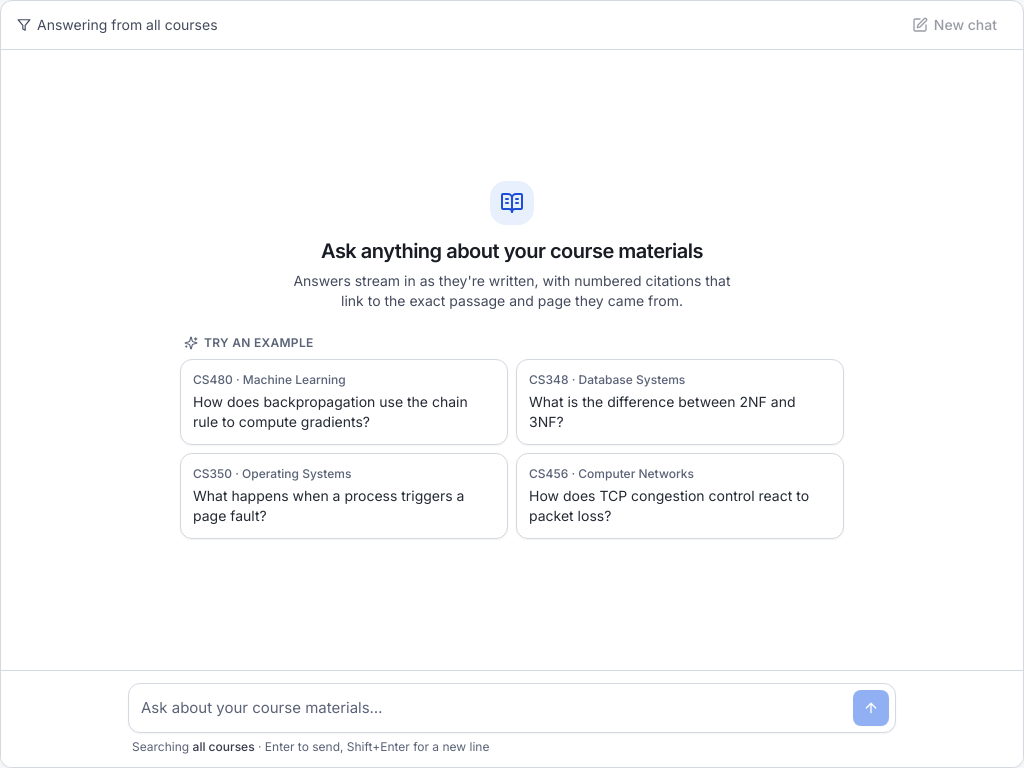
Test: ChatWindow › New chat clears the conversation
Type "Hello" into the text box named "Ask a question" at (493, 708), box [141,690,845,726]
Then press Enter
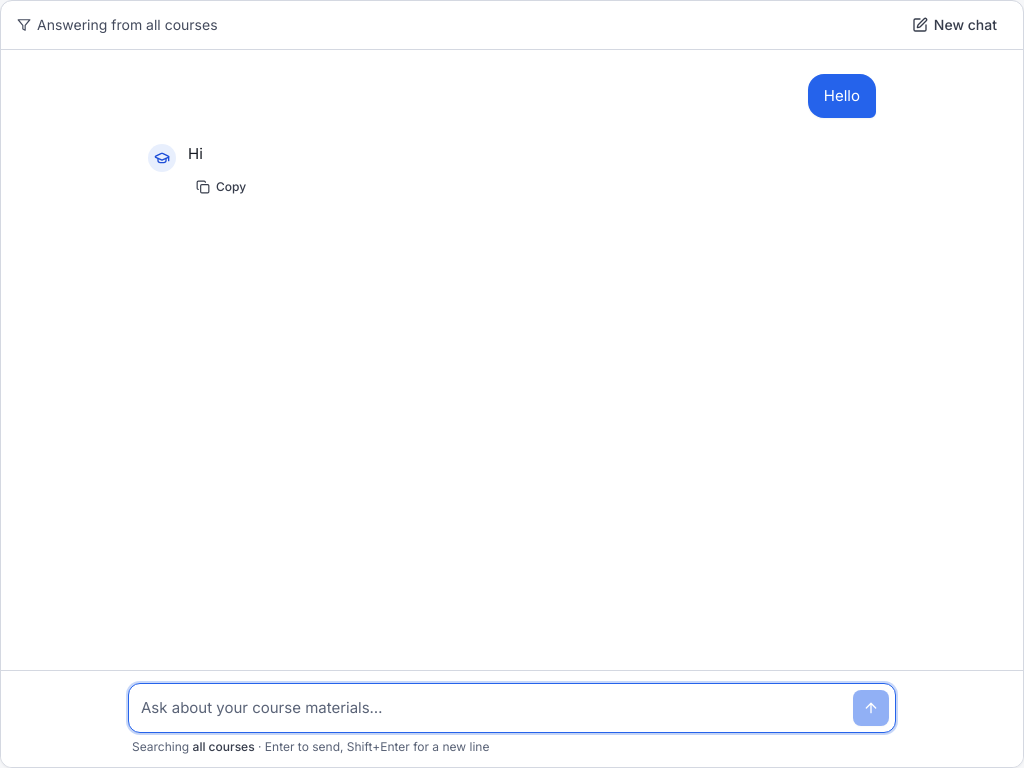
Expected: the text "Hi" is shown, [188,144,203,163]
Click the button "New chat" at (954, 25), box [902,9,1007,41]
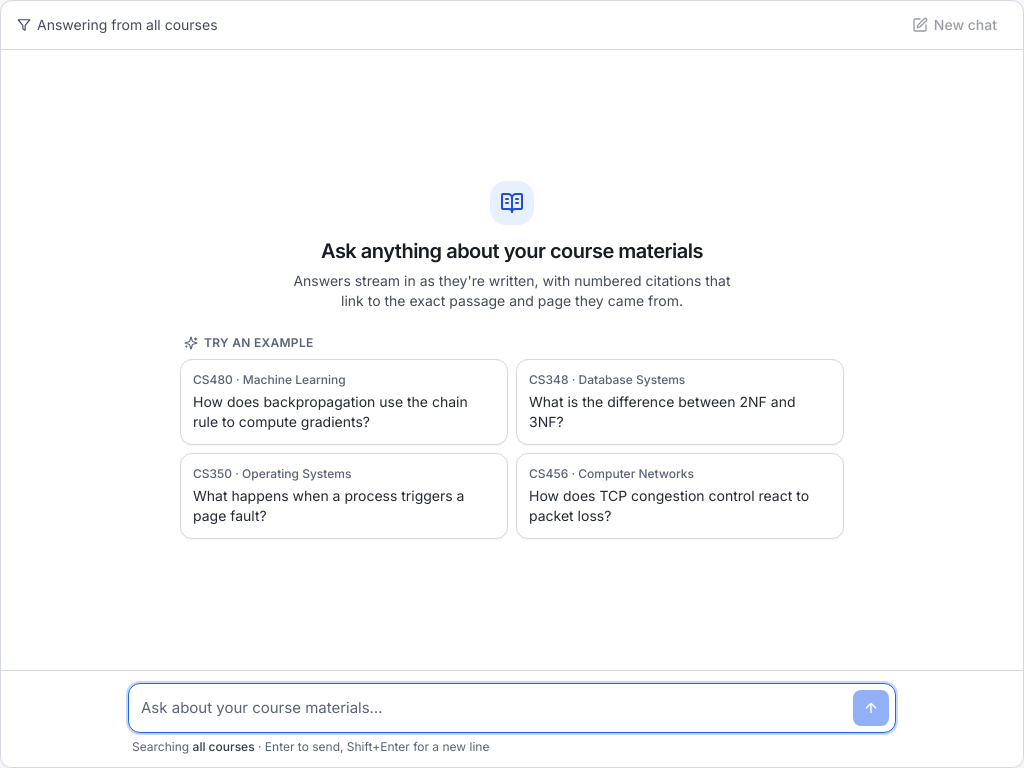
Result: the heading "Ask anything about your course materials" is shown at [321,239,703,263]
